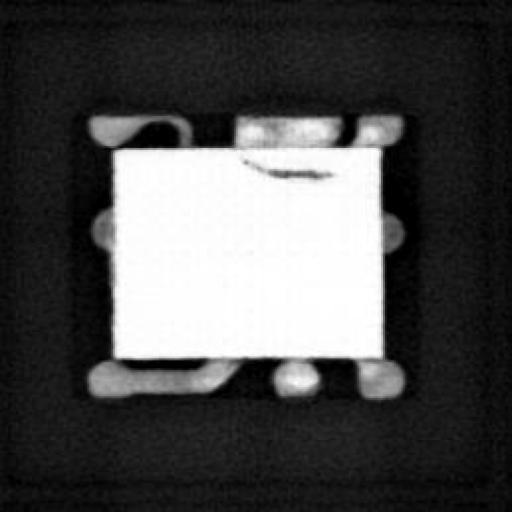DIE_INK: (236, 156, 332, 176)
